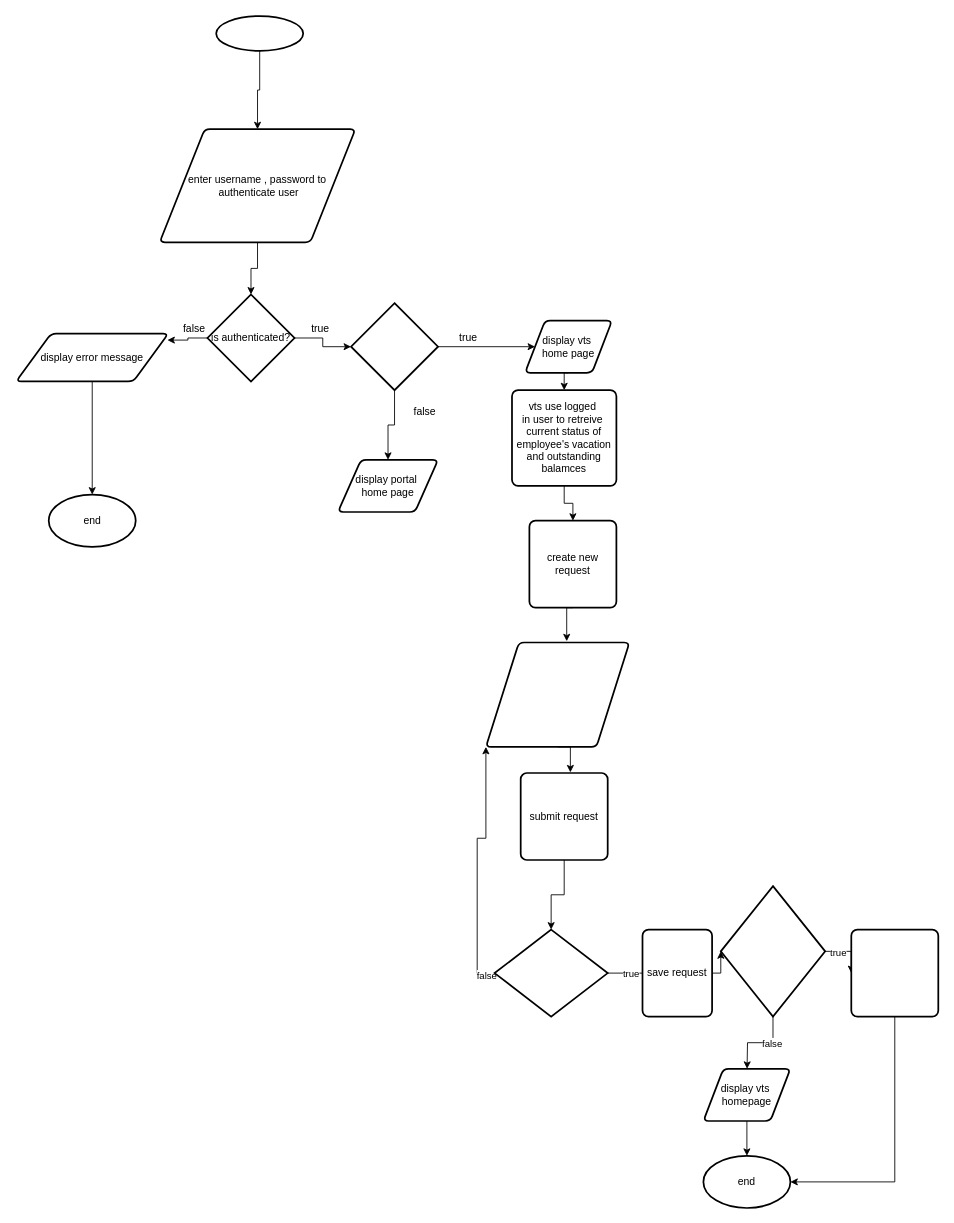
Some shapes in this 954 by 1223 pixel diagram are drawn without their labels. Each missing label, with the centre of its shape:
"enter category type, date,time ,short title ,description" belongs at [557,694].
"is authorized" belongs at [394,346].
"request require approve from manager ?" belongs at [772,951].
"send mail to manager" belongs at [894,972].
"start" belongs at [259,33].
"valid data ?" belongs at [550,972].
